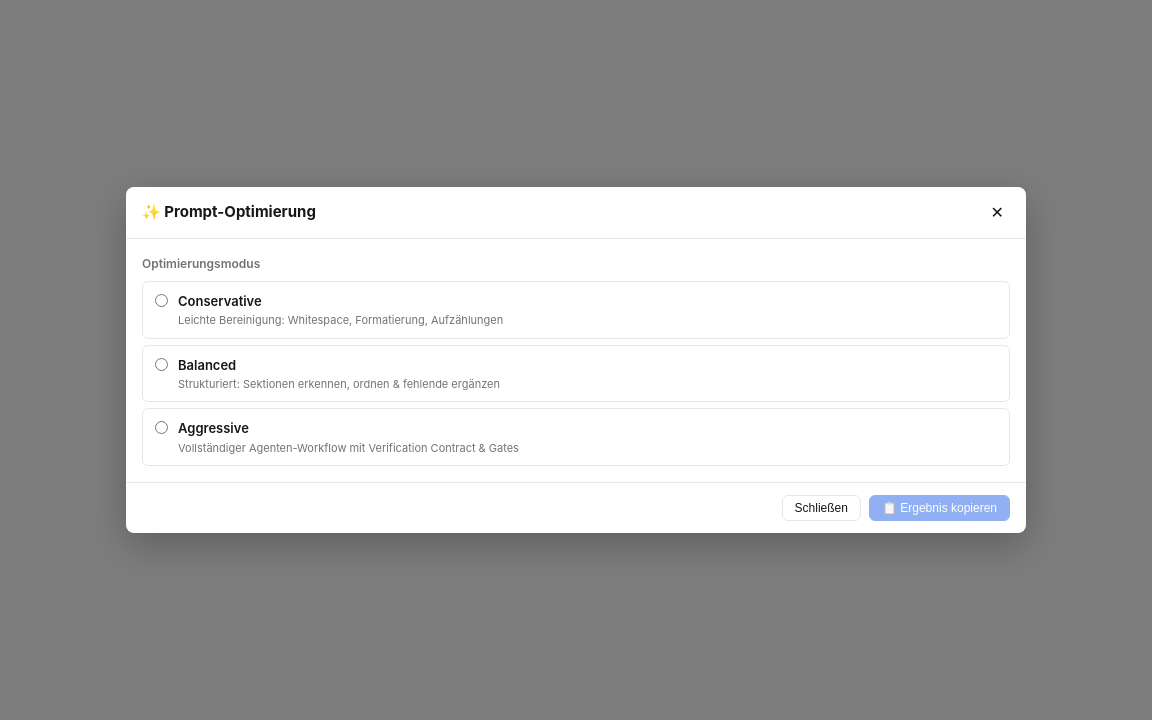
OptimizationPanel › interactions › switches optimization result when mode changes
What coordinates should you click on to do the following:
click the 1st radio button
I would click on:
 (162, 300)
Its box is [155,294,168,307].
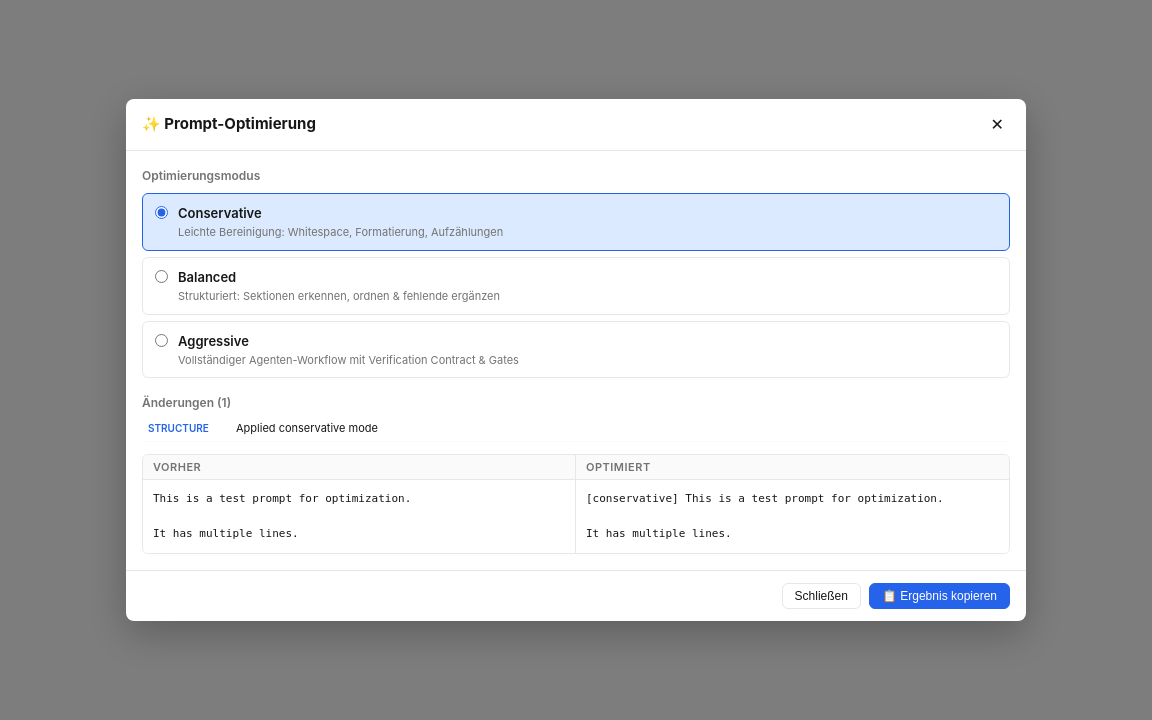
Check: the text "[conservative]" is shown, box [586,492,944,540]
What coordinates should you click on to do the following:
click the 3rd radio button
I would click on:
 (162, 340)
Its box is [155,334,168,346].
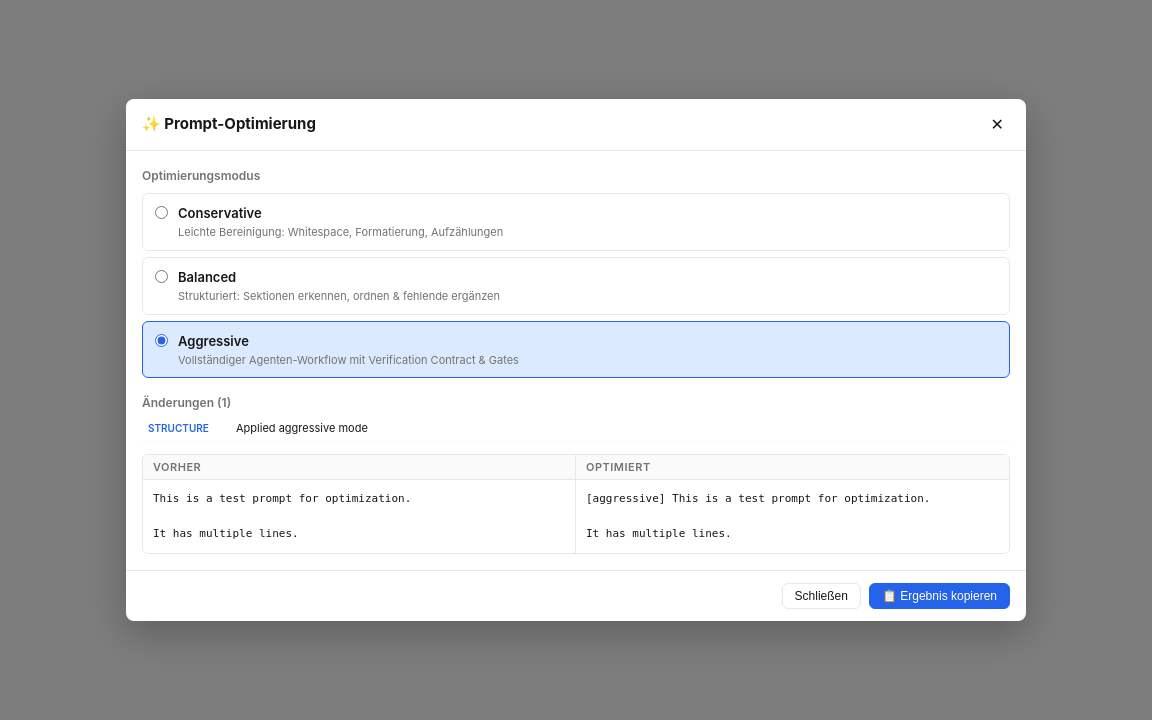
Check: the text "[aggressive]" is shown, box [586,492,930,540]
